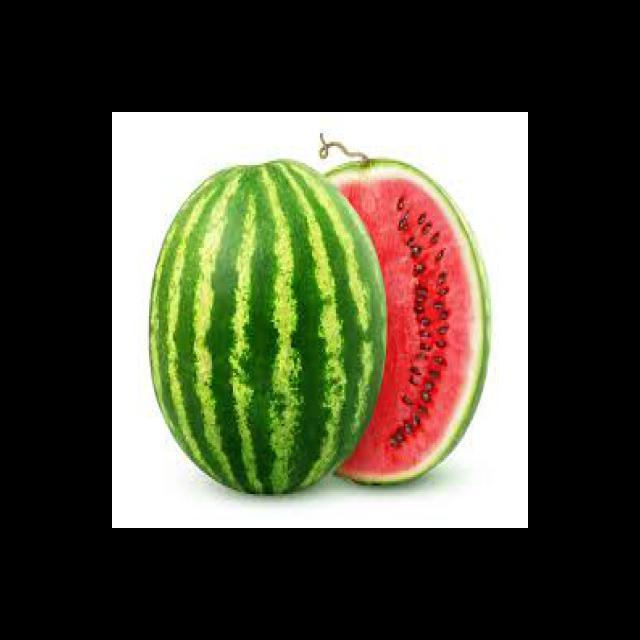watermelon: (148, 158, 388, 497), (323, 158, 492, 488)
